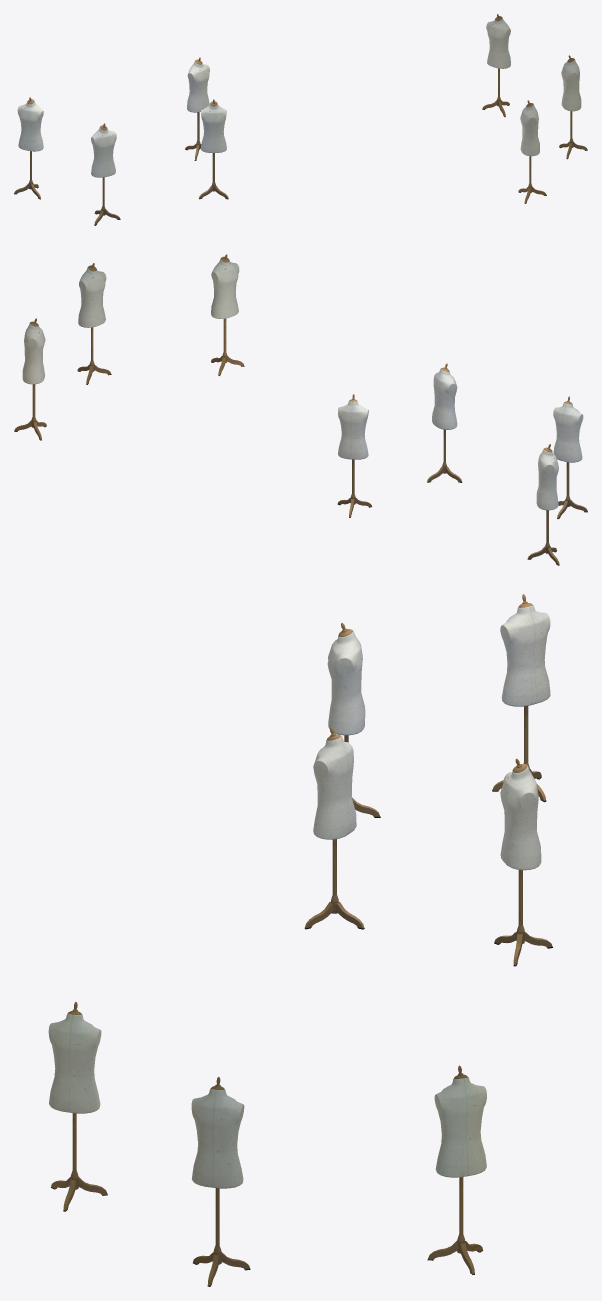
The model's file is Manequin.glb.
3 renders of one model, top to bottom at view 1: azimuth 30°, elevation 25°; view 2: azimuth 150°, elevation 25°; view 3: azimuth 270°, elevation 25°, orthographic. The views are drawn at different scales.
Visible parts, largest first — view 1: DressMannequin.001; view 2: DressMannequin.001; view 3: DressMannequin.001.
Boxes of the visible parts, x1,y1,x2,y2 form: DressMannequin.001: [14, 14, 587, 225]; DressMannequin.001: [14, 254, 587, 565]; DressMannequin.001: [48, 594, 552, 1286].
Bounding box in the file's own units: 9.81 × 2.15 × 4.36.
Materials: 1 (1 with a texture image).
